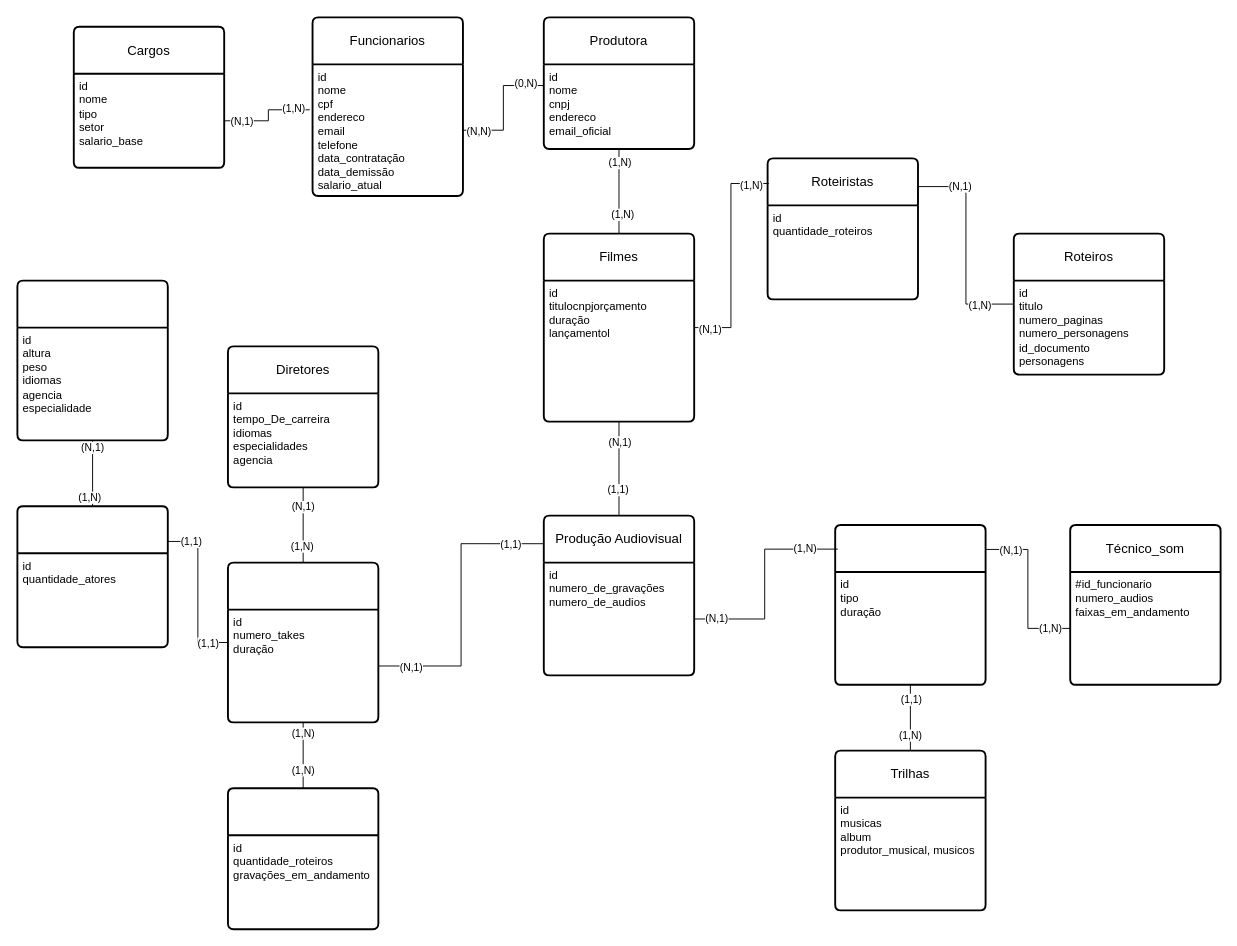
The diagram is 1237 pixels wide and 946 high, and some of its shapes have lost their labels. Here are the shapes that lost their labels. From the top down, the box of each, then its label:
(16, 279, 168, 441): Atores
(16, 505, 168, 648): Elenco
(834, 524, 986, 685): Áudios
(227, 561, 379, 723): Cenas
(227, 787, 379, 930): Cinegrafistas
